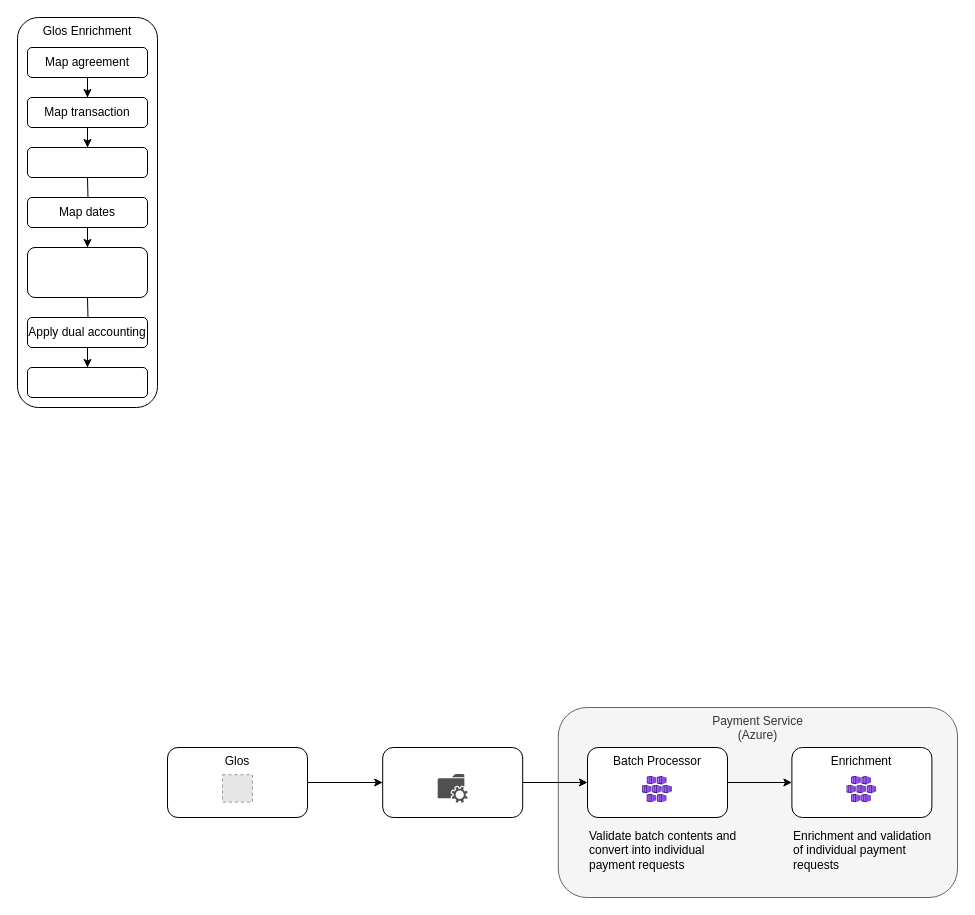
Image size: 975x915. Some labels were removed from this diagram. Grey dashed boxes stand in for pictures. The shapes that lost their labels are listed below. From the top down, each one's box as (x1, y1, x2, y2) in pixels, then its label:
(26, 146, 148, 178): Map FRN
(26, 246, 148, 298): Map fund, account, scheme, year delivery body
(26, 366, 148, 398): Validate co-financing rate
(382, 746, 523, 818): Managed Gateway
